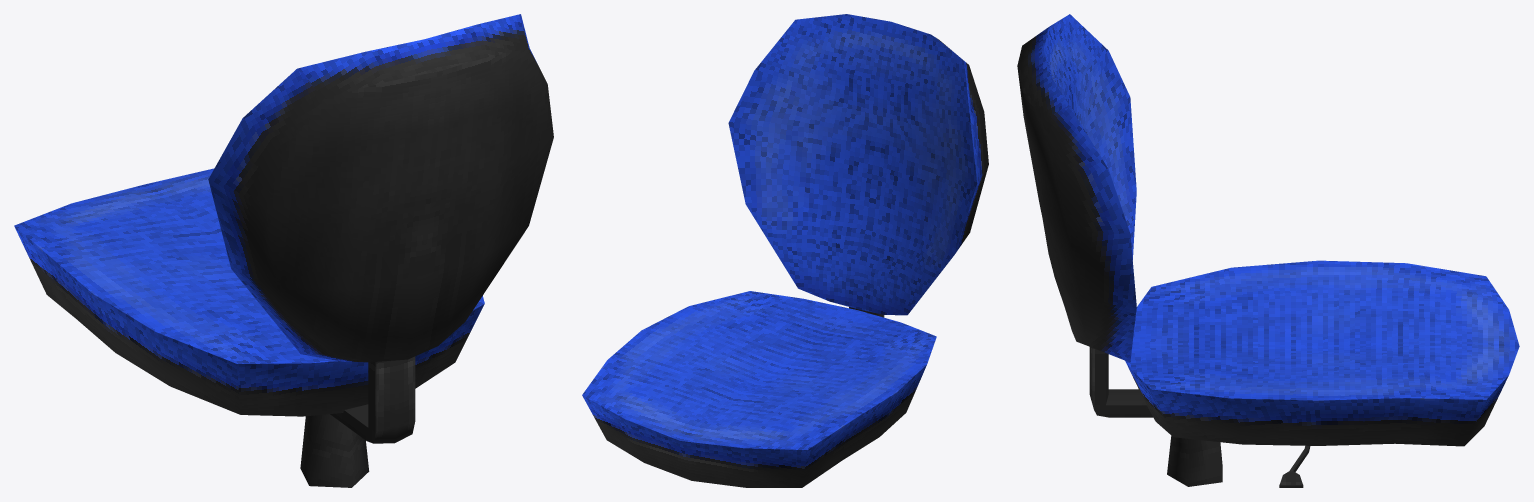
Rendered from ChairSeat.glb.
3 views of the same model, side by side, from view 1: azimuth 30°, elevation 25°; view 2: azimuth 150°, elevation 25°; view 3: azimuth 270°, elevation 25° (orthographic). The views are drawn at different scales.
Parts seen in each view (by area): view 1: chair seat; view 2: chair seat; view 3: chair seat.
Part boxes in pixels (box(x1,y1,x2,y2)): chair seat: box(14, 14, 553, 487); chair seat: box(582, 14, 988, 487); chair seat: box(1017, 14, 1519, 487).
Size of the model in its own units: 0.4627 by 0.6291 by 0.6729.
1 material, 1 textured.
